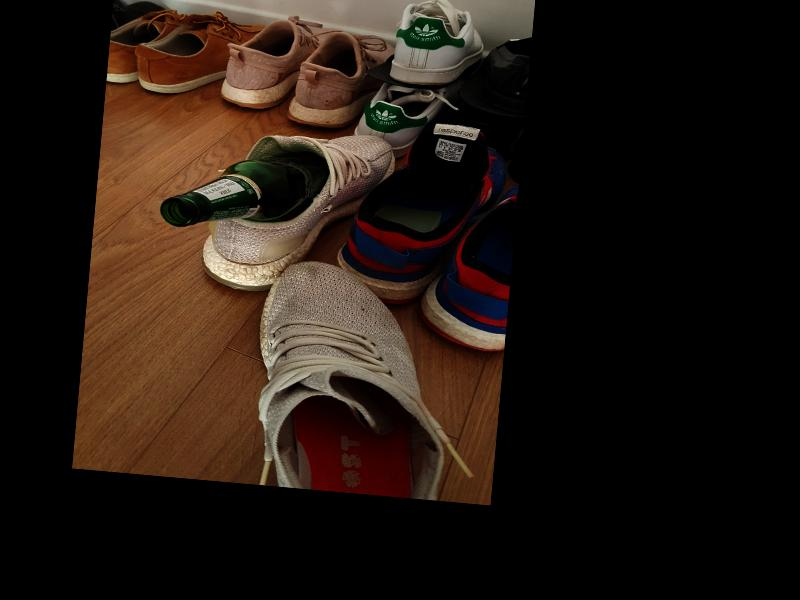Beer: (159, 136, 332, 239)
